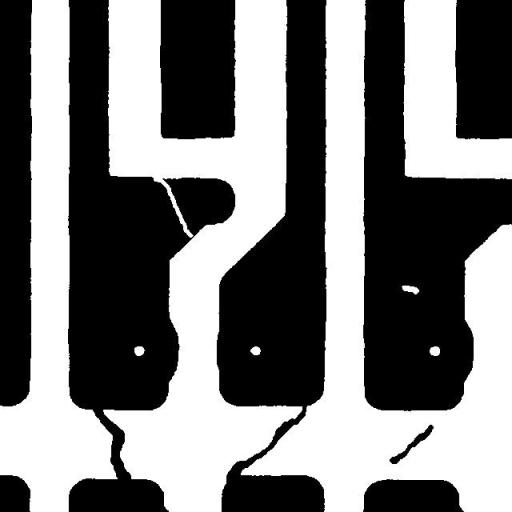copper: (382, 417, 440, 471)
open: (146, 170, 200, 244)
pin-hole: (394, 278, 426, 302)
short: (218, 394, 314, 494), (85, 394, 138, 490)
